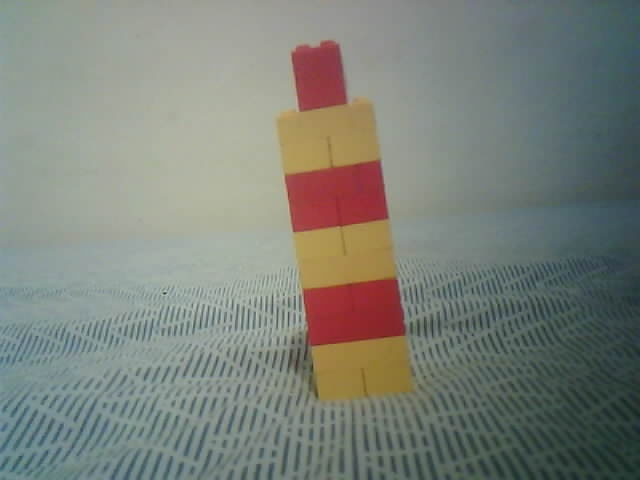lego: (275, 39, 415, 405)
